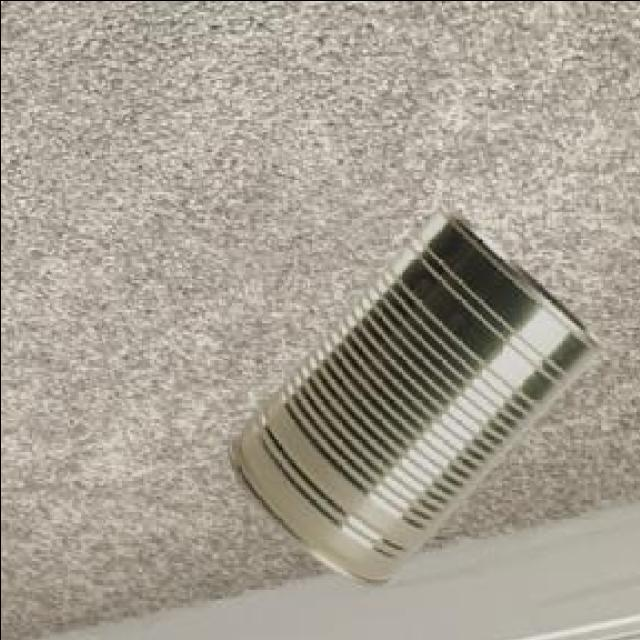logam: (226, 206, 599, 588)
